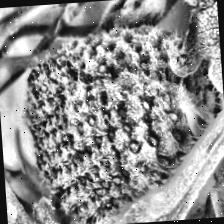Powdery Mildew Fruit: (17, 19, 224, 224)
